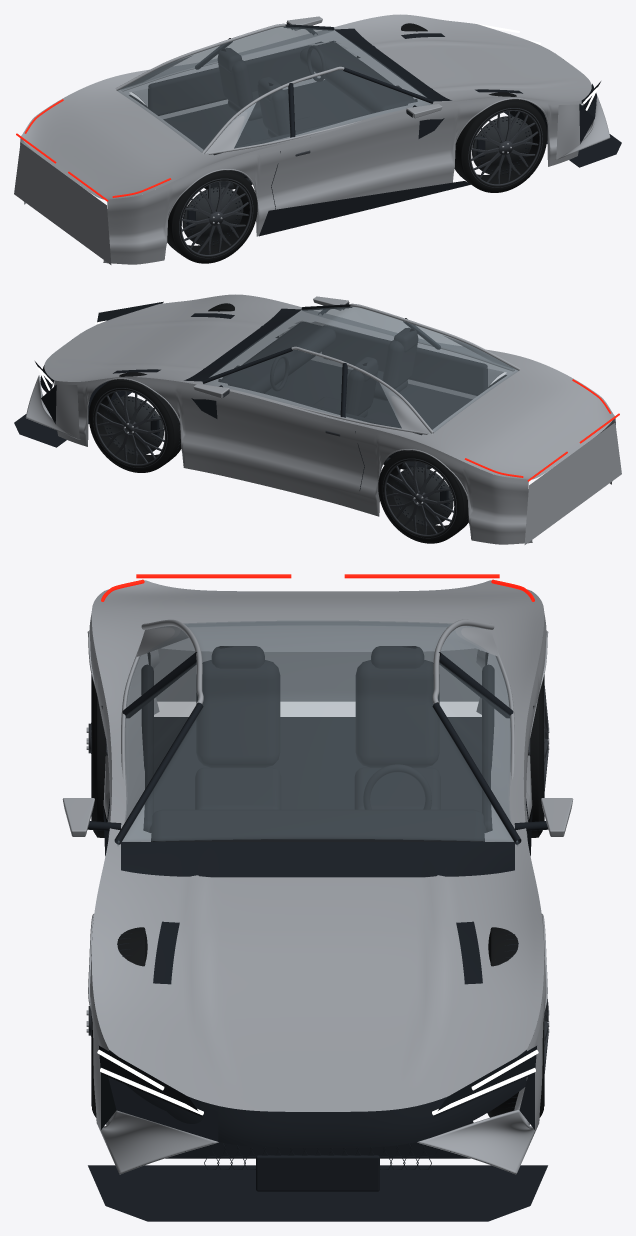
The model's file is veloc-body-v3.glb.
The picture shows the model from 3 angles, top to bottom: view 1: azimuth 30°, elevation 25°; view 2: azimuth 150°, elevation 25°; view 3: azimuth 270°, elevation 25°; orthographic projection. The views are drawn at different scales.
Parts seen in each view (by area): view 1: Continuous sculpted hood and haunches, Right body with wheel apertures, Windshield panoramic roof rear glazing, Quarter and door glazing, Rear bumper, Cabin floor, Door interior panel.001, Low profile performance tire.002, Dashboard, Low profile performance tire, Angular rocker recess, Quarter and door glazing.001 (+18 smaller); view 2: Continuous sculpted hood and haunches, Left body with wheel apertures, Windshield panoramic roof rear glazing, Quarter and door glazing.001, Rear bumper, Cabin floor, Door interior panel, Low profile performance tire.003, Dashboard, Low profile performance tire.001, Quarter and door glazing, Vented brake rotor.001 (+18 smaller); view 3: Continuous sculpted hood and haunches, Windshield panoramic roof rear glazing, Front carbon splitter, Cabin floor, Windshield cowl, Dashboard, Swept upper bumper, Seat back, Seat back.001, Rear bumper, Quarter and door glazing, Quarter and door glazing.001 (+30 smaller).
Part boxes in pixels (x1=…): Continuous sculpted hood and haunches: x1=21, y1=14, x2=591, y2=199; Right body with wheel apertures: x1=103, y1=97, x2=581, y2=264; Windshield panoramic roof rear glazing: x1=117, y1=26, x2=426, y2=152; Quarter and door glazing: x1=223, y1=70, x2=432, y2=148; Rear bumper: x1=14, y1=142, x2=111, y2=264; Cabin floor: x1=163, y1=80, x2=370, y2=189; Door interior panel.001: x1=148, y1=45, x2=313, y2=115; Low profile performance tire.002: x1=454, y1=92, x2=547, y2=192; Dashboard: x1=300, y1=42, x2=415, y2=112; Low profile performance tire: x1=167, y1=170, x2=257, y2=263; Angular rocker recess: x1=259, y1=181, x2=470, y2=236; Quarter and door glazing.001: x1=122, y1=26, x2=331, y2=89; Continuous sculpted hood and haunches: x1=44, y1=294, x2=614, y2=479; Left body with wheel apertures: x1=54, y1=377, x2=532, y2=544; Windshield panoramic roof rear glazing: x1=209, y1=306, x2=518, y2=432; Quarter and door glazing.001: x1=203, y1=350, x2=412, y2=428; Rear bumper: x1=524, y1=422, x2=621, y2=544; Cabin floor: x1=265, y1=360, x2=472, y2=469; Door interior panel: x1=322, y1=325, x2=487, y2=395; Low profile performance tire.003: x1=88, y1=372, x2=181, y2=472; Dashboard: x1=220, y1=322, x2=335, y2=392; Low profile performance tire.001: x1=378, y1=450, x2=468, y2=543; Quarter and door glazing: x1=304, y1=306, x2=513, y2=369; Vented brake rotor.001: x1=392, y1=466, x2=453, y2=525; Continuous sculpted hood and haunches: x1=91, y1=580, x2=544, y2=1111; Windshield panoramic roof rear glazing: x1=118, y1=621, x2=517, y2=842; Front carbon splitter: x1=88, y1=1165, x2=547, y2=1221; Cabin floor: x1=154, y1=717, x2=481, y2=812; Windshield cowl: x1=121, y1=842, x2=514, y2=877; Dashboard: x1=149, y1=809, x2=486, y2=841; Swept upper bumper: x1=109, y1=1050, x2=526, y2=1147; Seat back: x1=196, y1=660, x2=280, y2=767; Seat back.001: x1=355, y1=660, x2=439, y2=767; Rear bumper: x1=153, y1=648, x2=482, y2=701; Quarter and door glazing: x1=118, y1=626, x2=197, y2=845; Quarter and door glazing.001: x1=438, y1=626, x2=517, y2=845.
Bounding box in the file's own units: 4.86 × 1.26 × 2.07.
